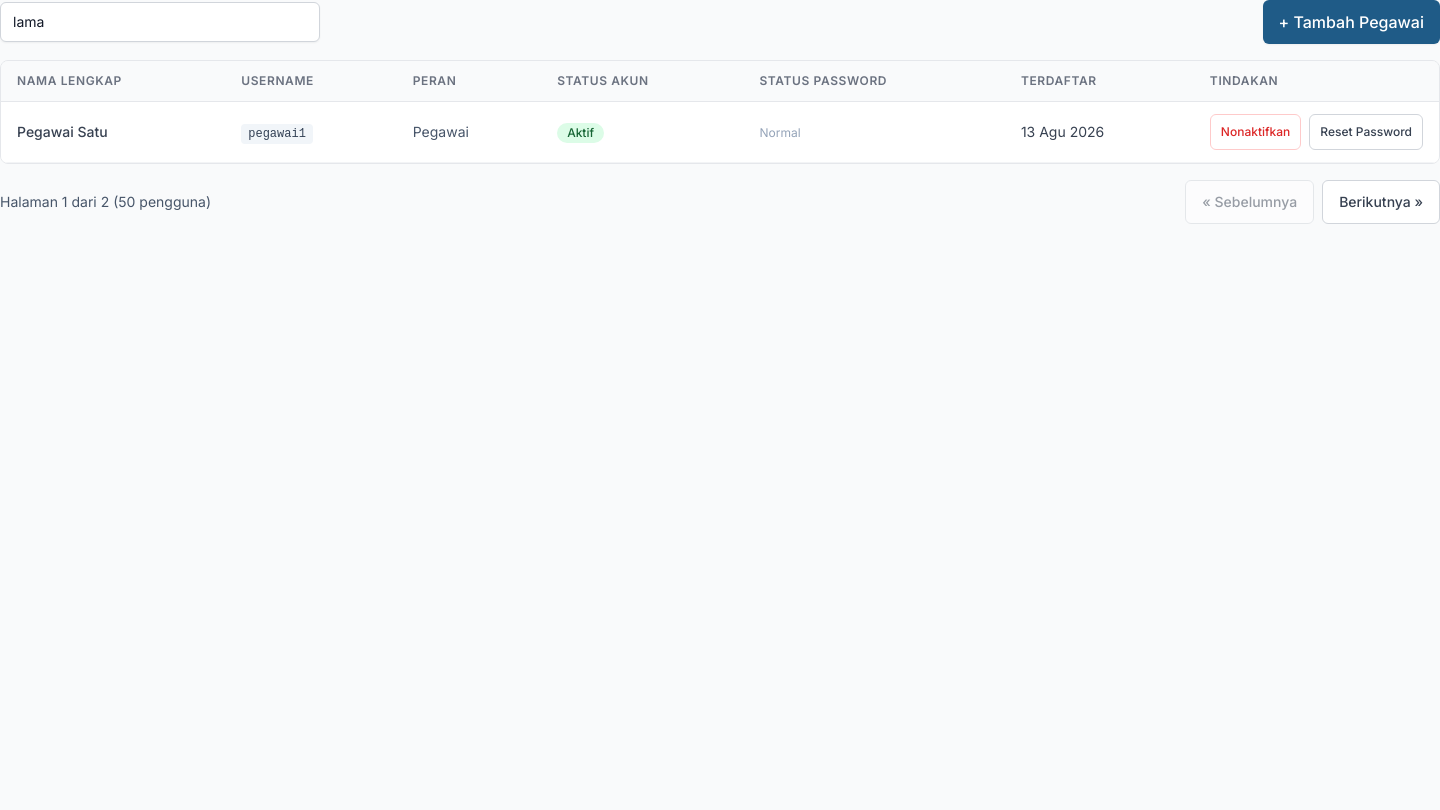
UsersClient pagination and reset-password dialog › resets a password through an accessible dialog without using prompt
Click the button "Reset Password" at (1366, 132), box [1309,114,1423,150]
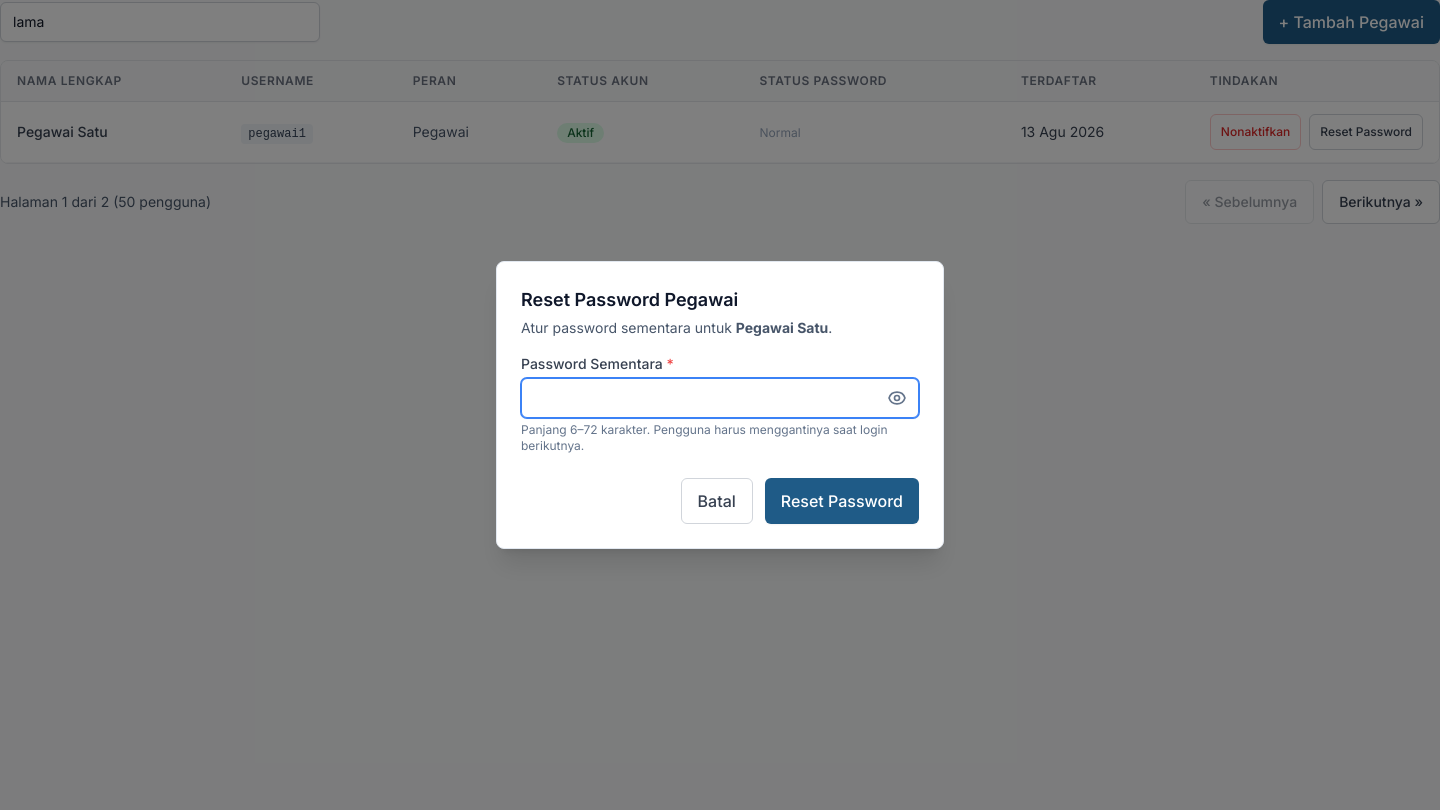
Type "rahasia123" into the password field labelled "Password Sementara *" at (720, 398), box [521,378,919,418]
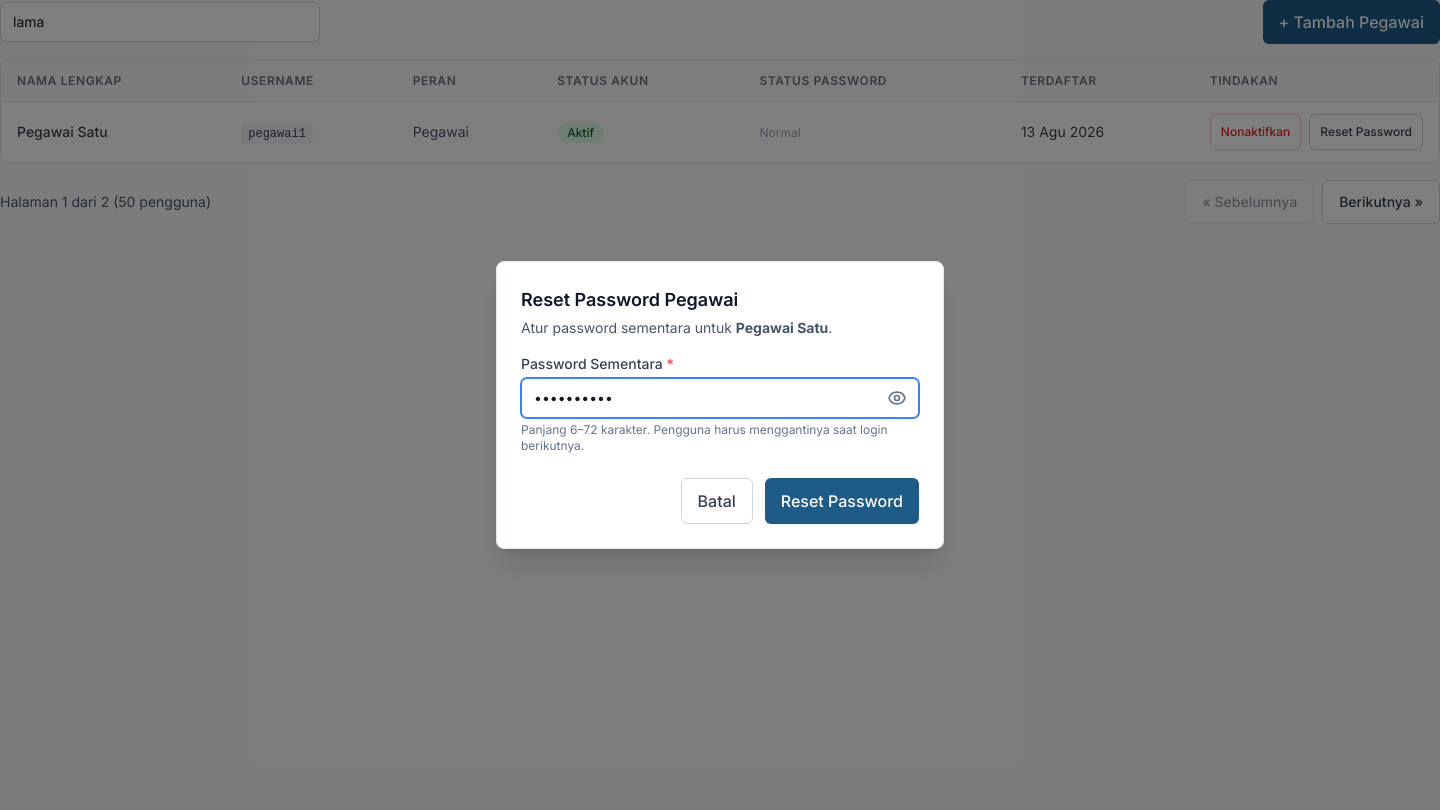
Click the button "Reset Password" at (842, 501), box [765,478,919,524]
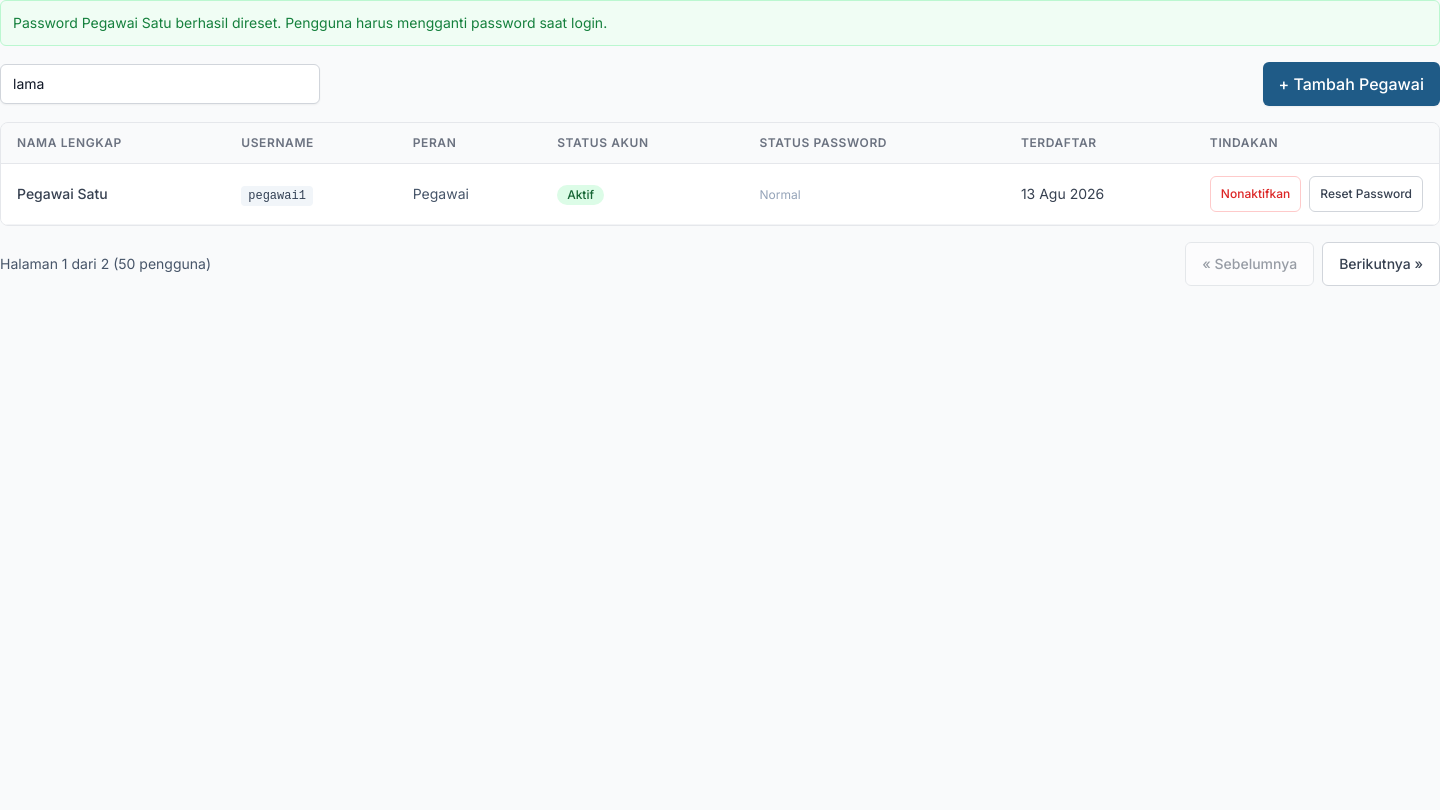
Expected: the dialog is gone
Expected: the message shows "Password Pegawai Satu berhasil direset", [13,14,607,31]
